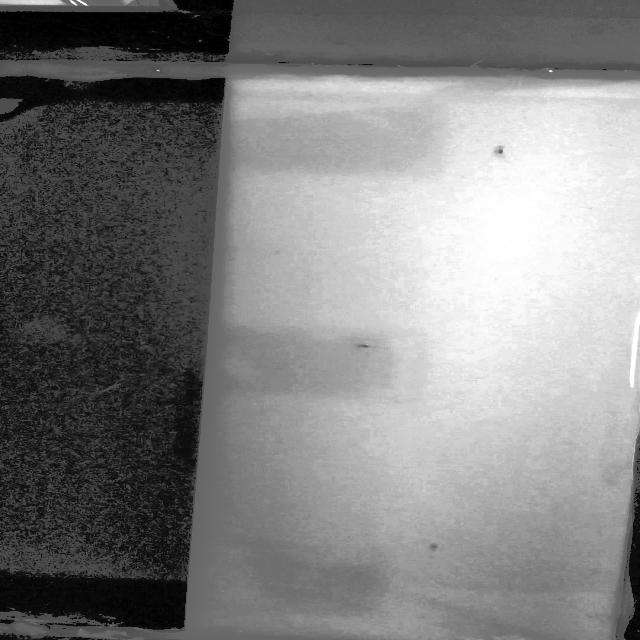shrimp: (486, 141, 515, 162), (414, 539, 447, 554), (350, 341, 392, 352)
